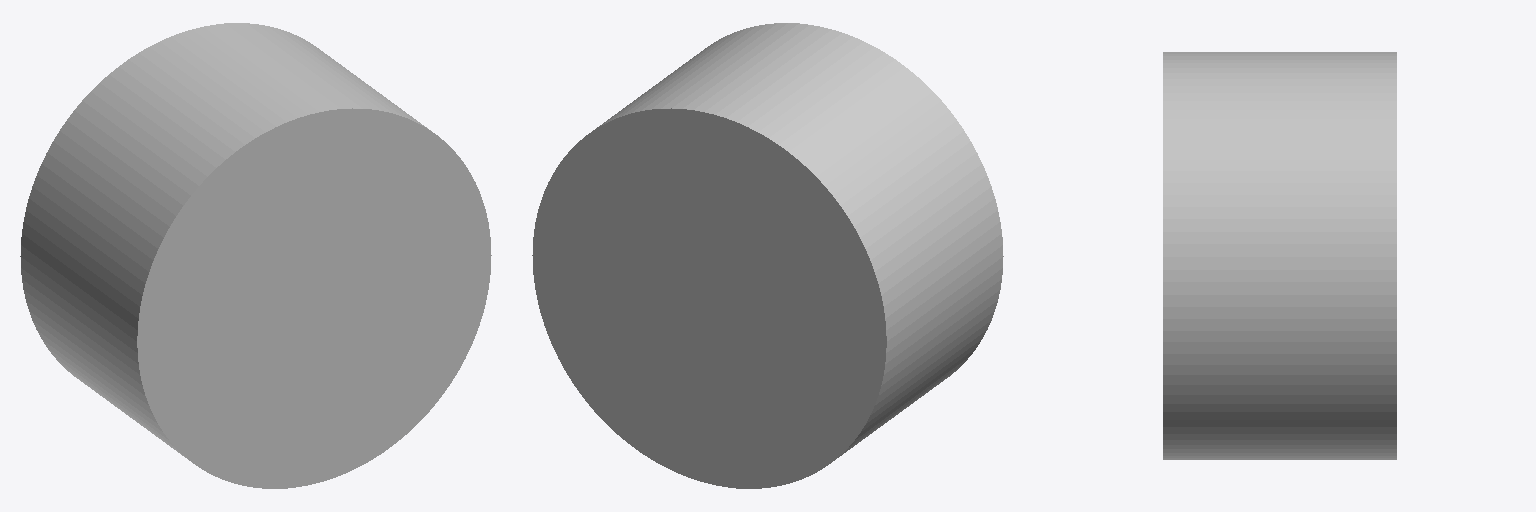
File: CarWheel.obj
The picture shows the model from 3 angles: view 1: azimuth 30°, elevation 25°; view 2: azimuth 150°, elevation 25°; view 3: azimuth 270°, elevation 25°; orthographic projection.
Parts seen in each view (by area): view 1: CarWheel; view 2: CarWheel; view 3: CarWheel.
Part boxes in pixels (bbox=[...]): CarWheel: bbox=[20, 23, 491, 488]; CarWheel: bbox=[532, 23, 1003, 488]; CarWheel: bbox=[1163, 52, 1396, 459].
Bounding box in the file's own units: 0.07 × 0.07 × 0.04.